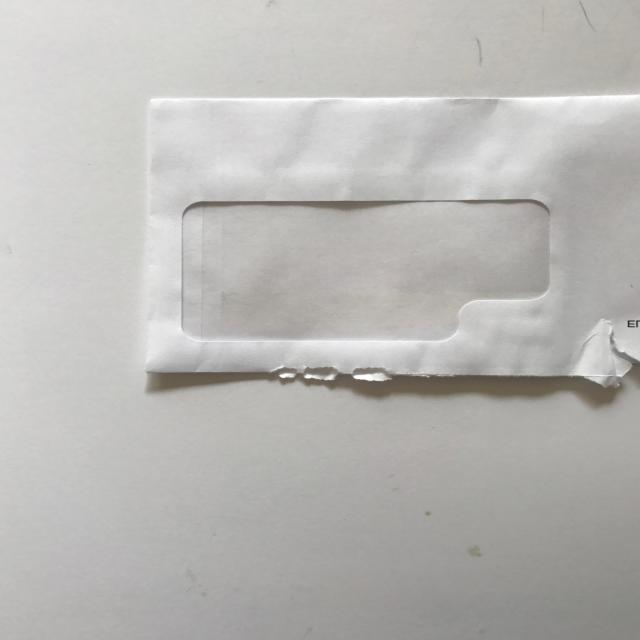paper: (117, 79, 640, 412)
